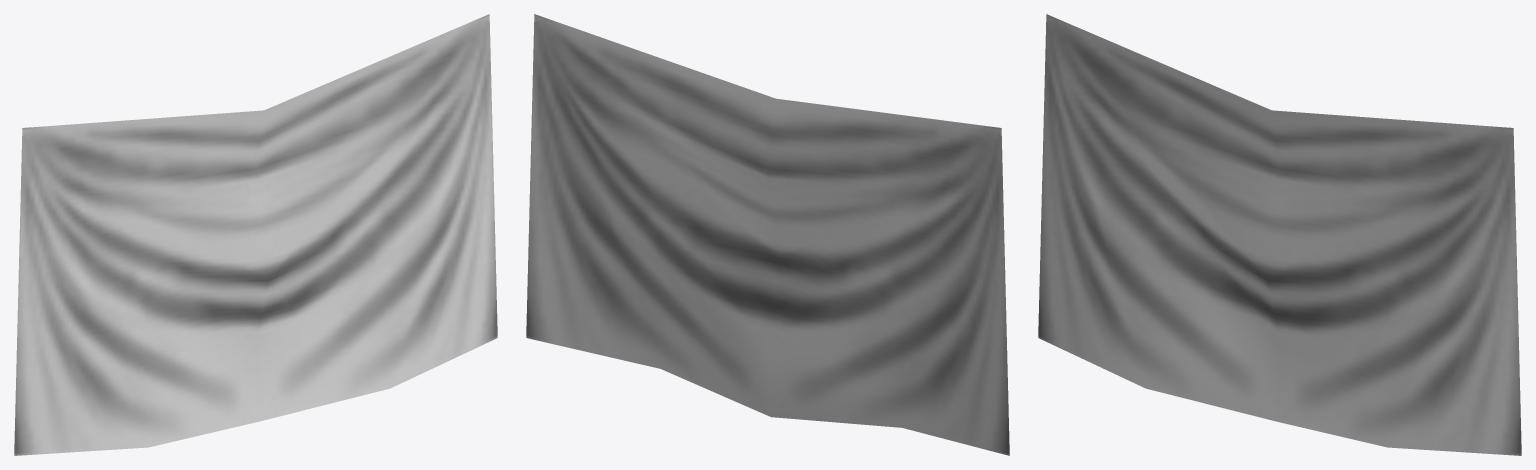
Rendered from flag_hanging_spanish.fbx.
3 views of the same model, side by side, from view 1: azimuth 30°, elevation 25°; view 2: azimuth 150°, elevation 25°; view 3: azimuth 330°, elevation 25° (orthographic).
Visible parts, largest first — view 1: flag_hanging_back, flag_hanging; view 2: flag_hanging_back, flag_hanging; view 3: flag_hanging_back, flag_hanging.
Boxes of the visible parts, x1=… form: flag_hanging_back: x1=14, y1=14, x2=497, y2=455; flag_hanging: x1=14, y1=16, x2=497, y2=453; flag_hanging_back: x1=526, y1=14, x2=1009, y2=455; flag_hanging: x1=526, y1=17, x2=1009, y2=452; flag_hanging_back: x1=1038, y1=14, x2=1521, y2=455; flag_hanging: x1=1039, y1=16, x2=1521, y2=453.
Bounding box in the file's own units: 1247 × 858 × 59.92.
Materials: 1 (1 with a texture image).
